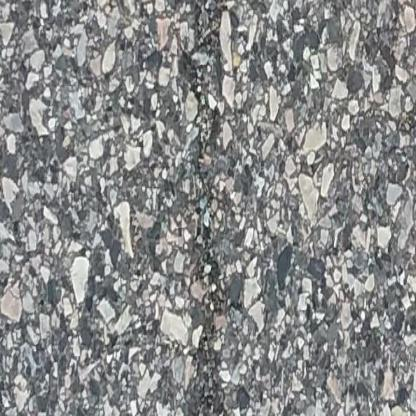Cracks: (183, 0, 231, 416)
